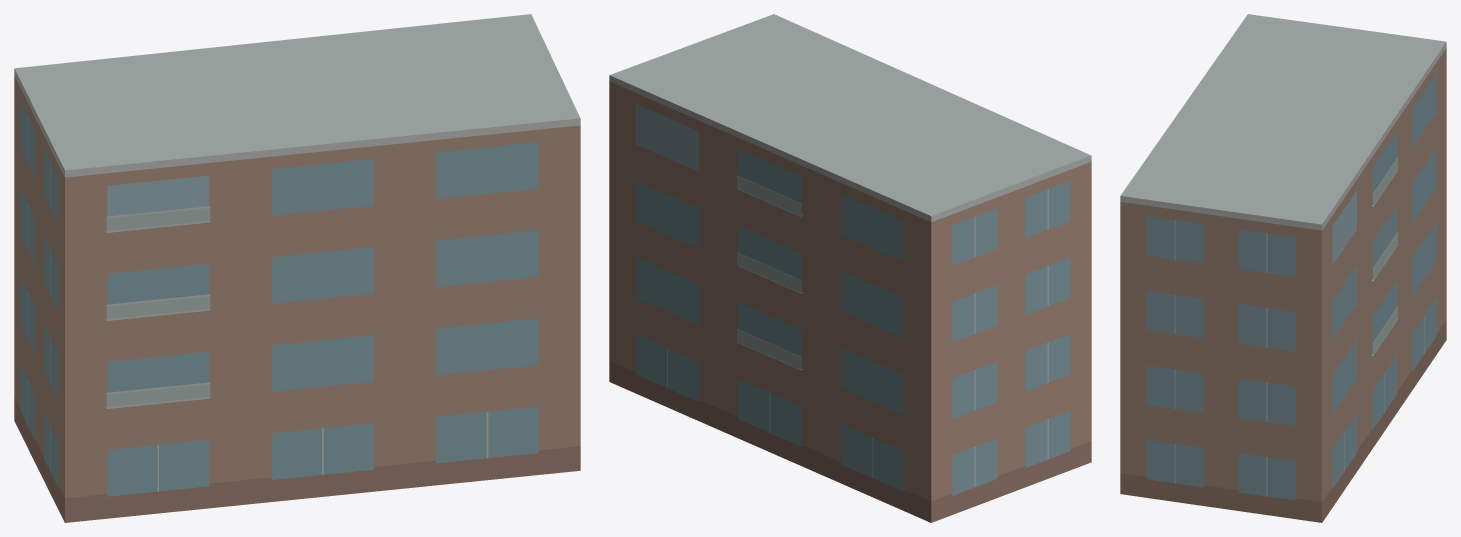
The model's file is residential-27ffdef9-2e4a-458c-b4c2-aacb6b6f683f.glb.
3 views of the same model, side by side, from view 1: azimuth 30°, elevation 25°; view 2: azimuth 150°, elevation 25°; view 3: azimuth 270°, elevation 25° (orthographic). The views are drawn at different scales.
Parts seen in each view (by area): view 1: residential-27ffdef9-2e4a-458c-b4c2-aacb6b6f683f.tmp; view 2: residential-27ffdef9-2e4a-458c-b4c2-aacb6b6f683f.tmp; view 3: residential-27ffdef9-2e4a-458c-b4c2-aacb6b6f683f.tmp.
Part boxes in pixels (bbox=[...]): residential-27ffdef9-2e4a-458c-b4c2-aacb6b6f683f.tmp: bbox=[14, 14, 580, 522]; residential-27ffdef9-2e4a-458c-b4c2-aacb6b6f683f.tmp: bbox=[609, 14, 1091, 522]; residential-27ffdef9-2e4a-458c-b4c2-aacb6b6f683f.tmp: bbox=[1120, 14, 1446, 522].
Bounding box in the file's own units: 18.49 × 12.2 × 12.11.
